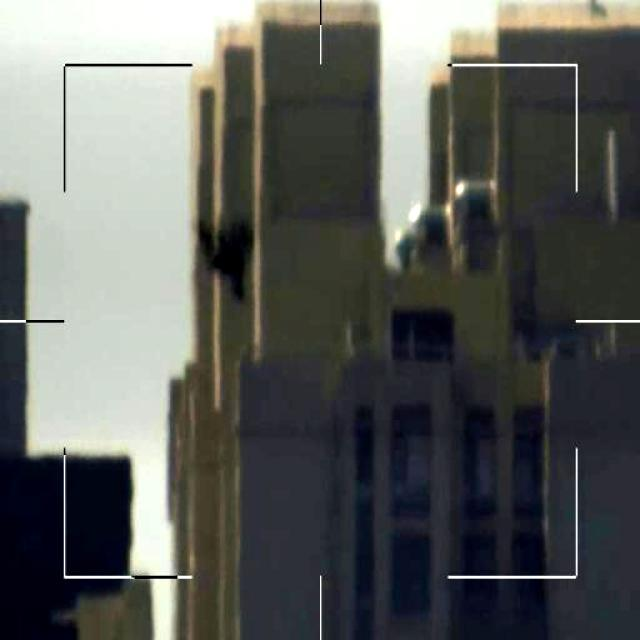bird: (191, 220, 254, 301)
